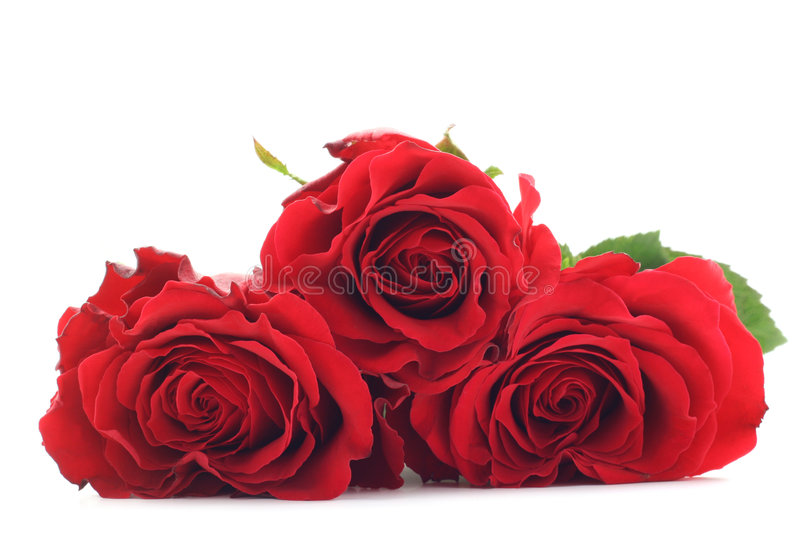RedRose: (30, 228, 451, 533), (398, 228, 784, 471), (262, 99, 566, 370)
